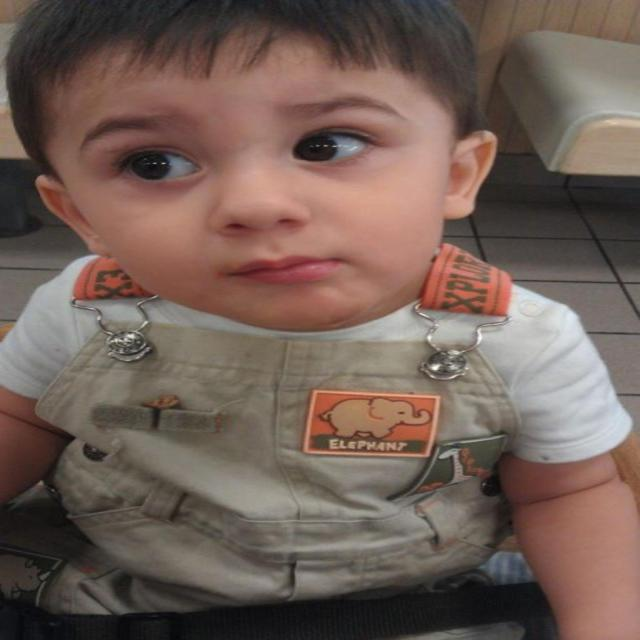Face: (52, 47, 451, 319)
